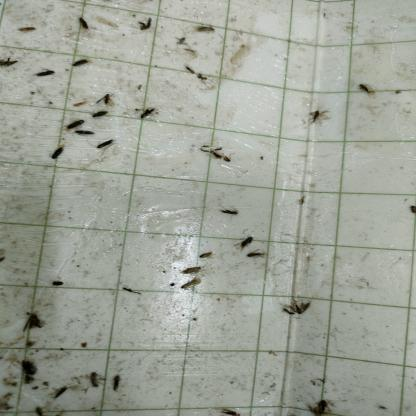prays_oleae: (279, 292, 309, 325), (206, 142, 235, 172), (21, 312, 48, 342), (358, 71, 376, 103), (307, 108, 330, 129), (196, 16, 217, 37), (138, 106, 160, 123), (76, 11, 93, 32), (13, 23, 39, 36), (98, 90, 114, 110), (136, 16, 152, 36), (174, 30, 188, 52), (178, 263, 202, 274), (31, 68, 57, 78), (237, 231, 255, 245), (220, 206, 238, 220), (96, 140, 116, 152), (72, 59, 92, 71), (51, 276, 68, 290), (76, 127, 97, 138), (49, 148, 68, 160), (246, 251, 264, 263), (92, 107, 110, 118), (181, 283, 203, 291), (63, 120, 86, 127)
